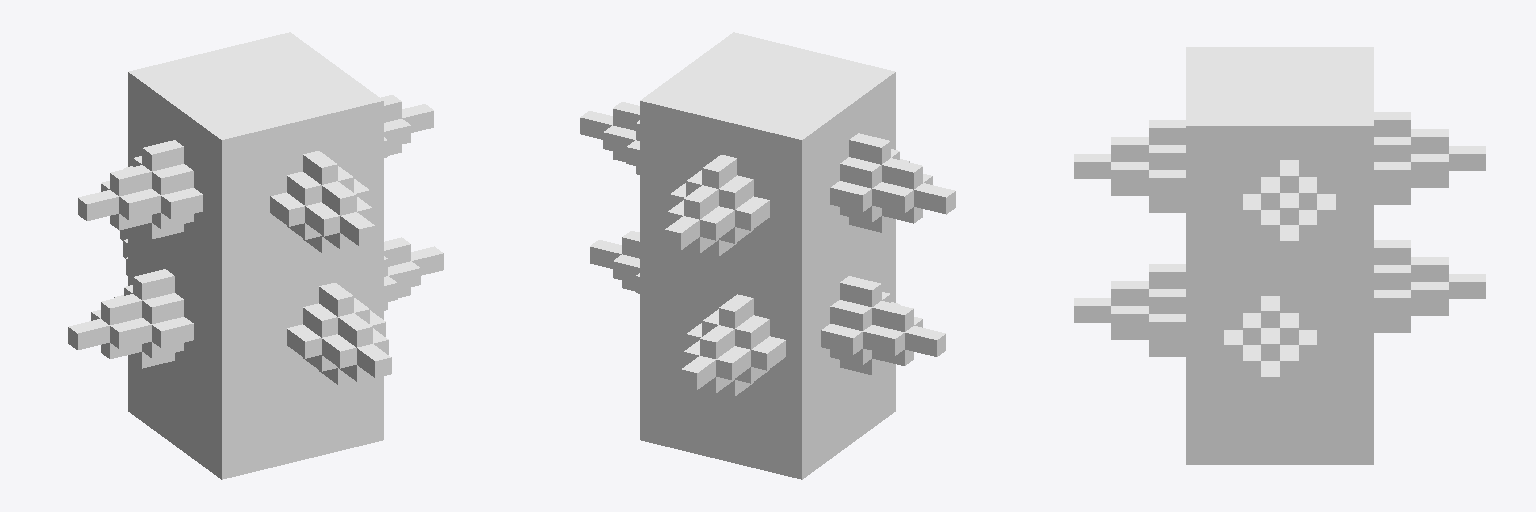
Rendered from SpikyEnemy.obj.
3 views of the same model, side by side, from view 1: azimuth 30°, elevation 25°; view 2: azimuth 150°, elevation 25°; view 3: azimuth 270°, elevation 25° (orthographic).
Parts seen in each view (by area): view 1: object 1; view 2: object 1; view 3: object 1.
Part boxes in pixels (left/top/right/bottom): object 1: left=68, top=32, right=443, bottom=479; object 1: left=580, top=32, right=955, bottom=479; object 1: left=1074, top=47, right=1485, bottom=464.
Size of the model in its own units: 2.2 by 2 by 2.2.